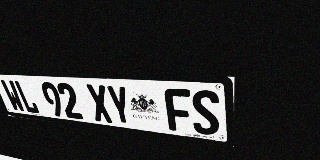2: (55, 82, 83, 119)
9: (39, 82, 67, 117)
F: (164, 88, 193, 133)
L: (13, 80, 40, 114)
S: (190, 89, 220, 136)
W: (0, 80, 26, 112)
X: (85, 84, 114, 123)
Y: (105, 85, 134, 126)
